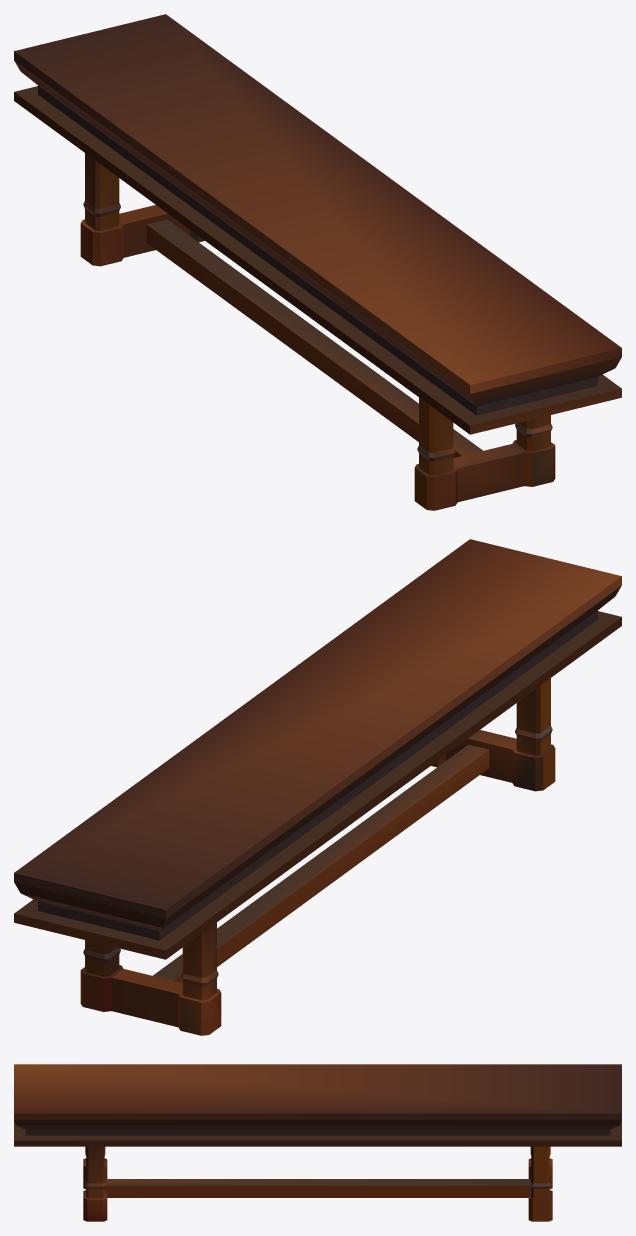
Rendered from Furniture_BenchB.fbx.
3 views of the same model, one above another, from view 1: azimuth 30°, elevation 25°; view 2: azimuth 150°, elevation 25°; view 3: azimuth 270°, elevation 25° (orthographic). The views are drawn at different scales.
Visible parts, largest first — view 1: Furniture_BenchB; view 2: Furniture_BenchB; view 3: Furniture_BenchB.
Part boxes in pixels (bbox=[...]): Furniture_BenchB: bbox=[14, 14, 621, 510]; Furniture_BenchB: bbox=[14, 539, 621, 1035]; Furniture_BenchB: bbox=[14, 1064, 621, 1221].
Bounding box in the file's own units: 50 × 52.85 × 260.
